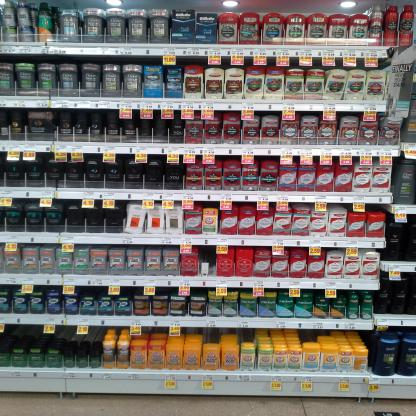Void: (6, 326, 97, 342), (201, 247, 215, 277)
